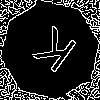K: (25, 25, 79, 82)
